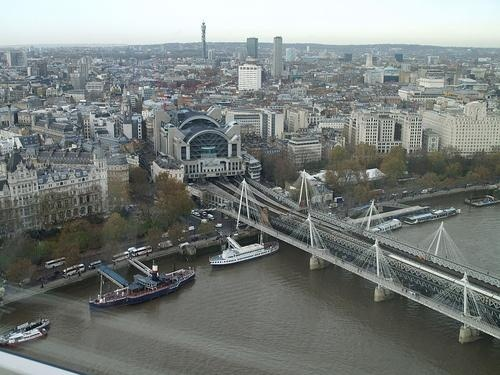boat: (90, 269, 196, 307), (210, 234, 279, 268), (1, 319, 52, 351), (408, 207, 464, 223), (462, 190, 500, 211), (367, 215, 402, 234)
bus: (59, 264, 84, 276), (104, 252, 131, 261), (43, 259, 67, 268), (131, 248, 153, 257)
